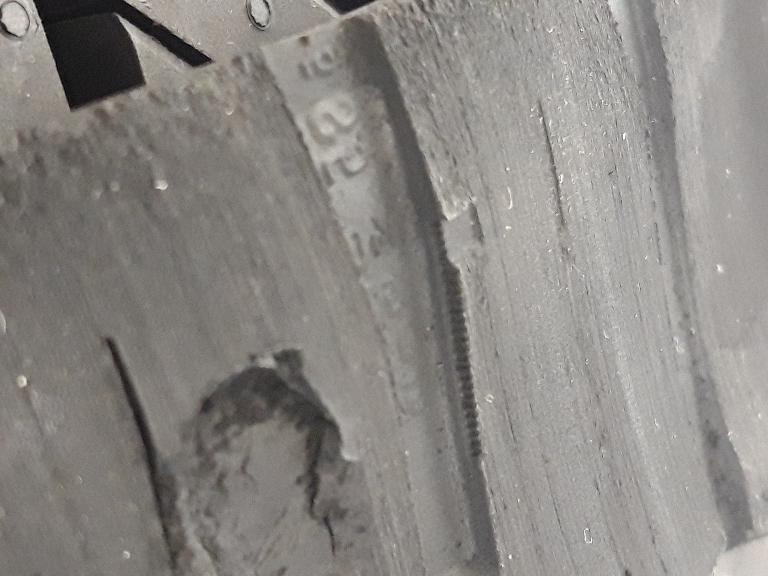temoin:0: (424, 191, 500, 289)
